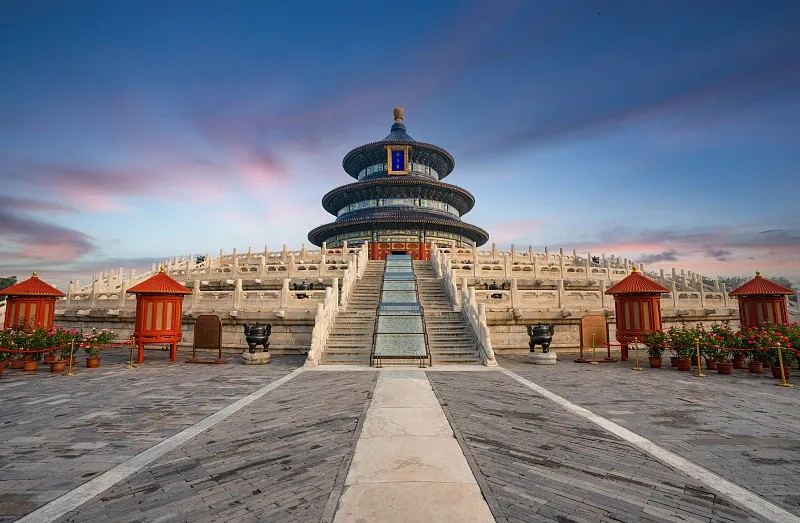Heaven: (308, 108, 489, 260)
